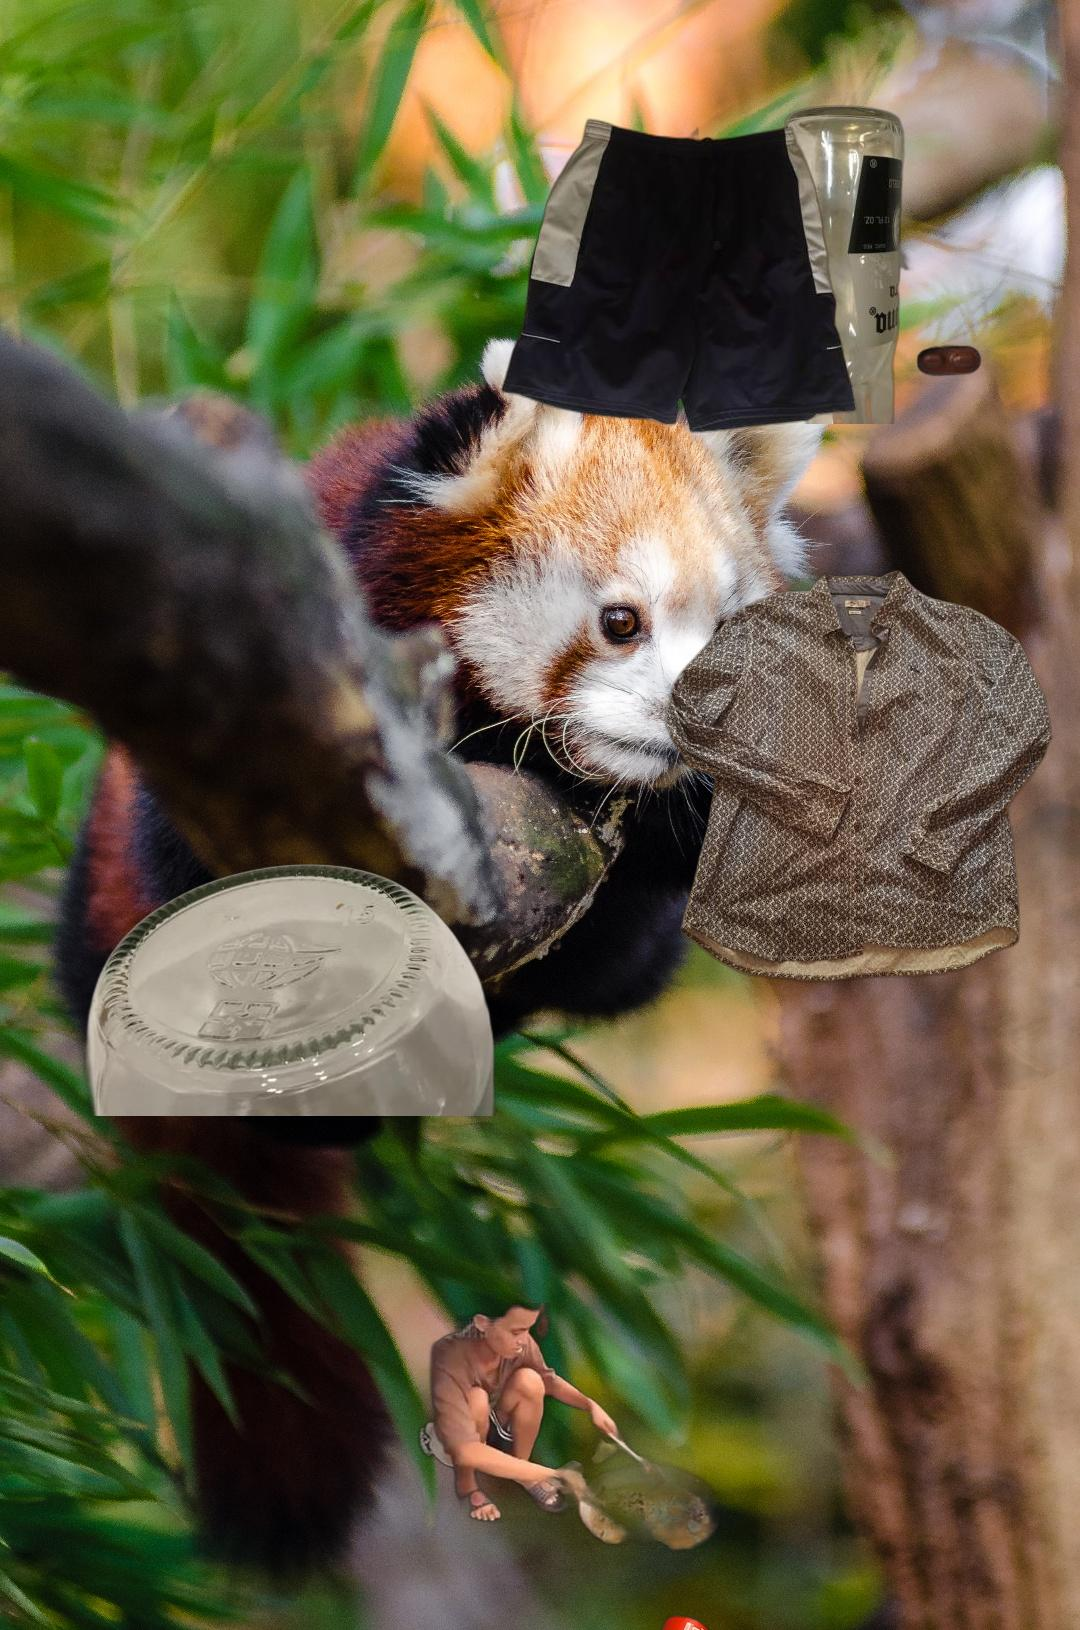biological: (347, 1304, 875, 1630)
clothes: (658, 566, 1056, 985)
glass: (80, 861, 507, 1116), (776, 96, 916, 424)
metal-cans: (614, 1610, 717, 1630)
paper: (900, 708, 1080, 1090)
shoes: (495, 114, 859, 439)
trash: (914, 343, 984, 379)
